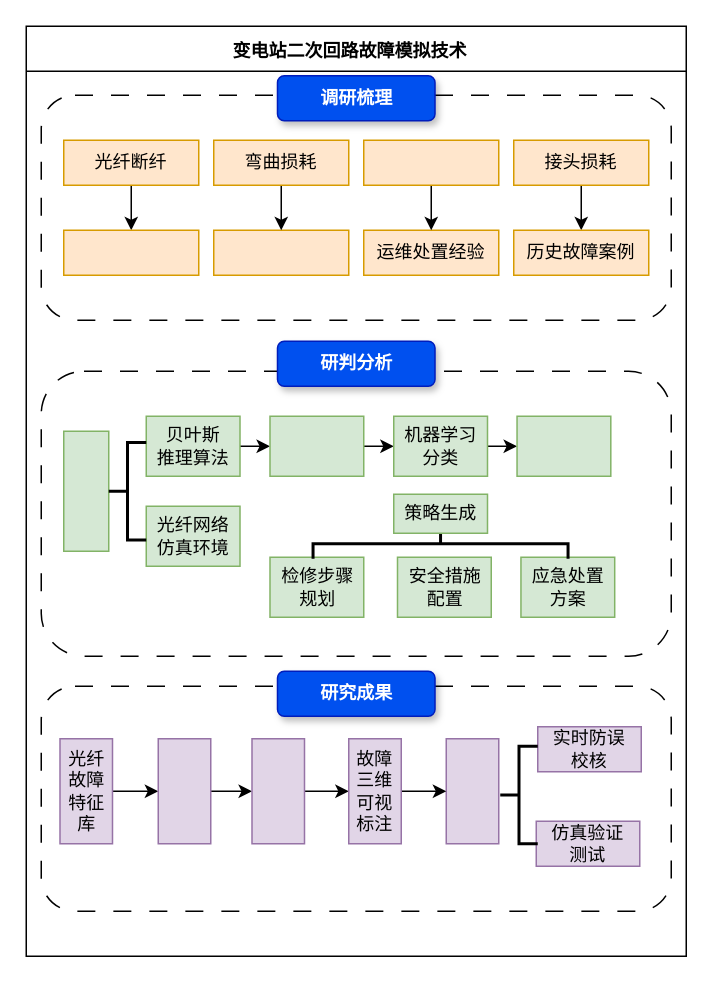
The diagram is 714 pixels wide and 983 high, and some of its shapes have lost their labels. The shapes that lost their labels are listed below. From the top down, each one's centre as x and y in pixels, then its label:
the point at 430,162: 设备故障
the point at 130,252: OTDR检测数据
the point at 280,252: 光功率监测
the point at 316,445: 模糊逻辑 评估
the point at 563,445: 概率排序 输出
the point at 85,490: 故障传播网络模型
the point at 184,790: 多源融合定位算法
the point at 277,790: 智能检修策略引擎
the point at 472,790: 自动安措票生成工具
